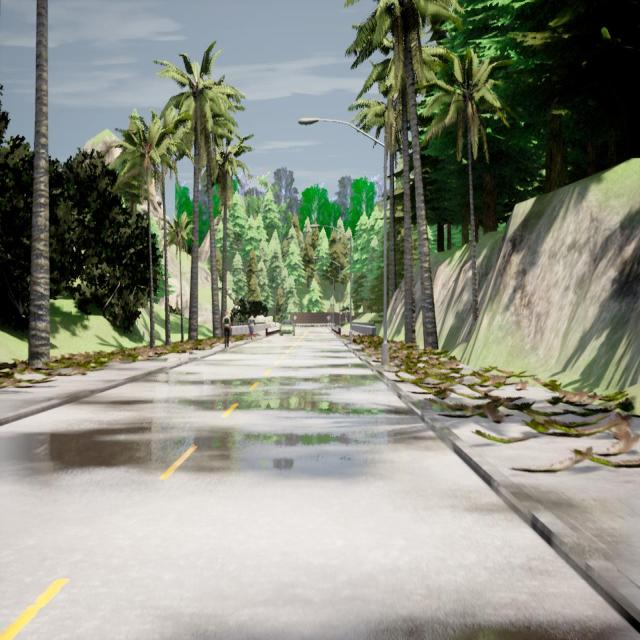Pedestrian: (221, 311, 231, 347), (247, 315, 255, 339)
Traffic_Signs: (327, 315, 331, 320), (294, 315, 297, 320)
Vehicle: (279, 319, 296, 336)
